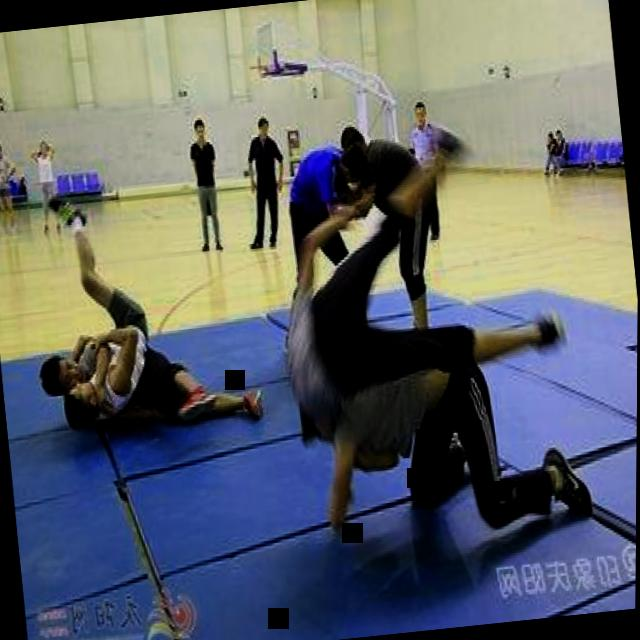Fall-Detected: (274, 176, 568, 428)
